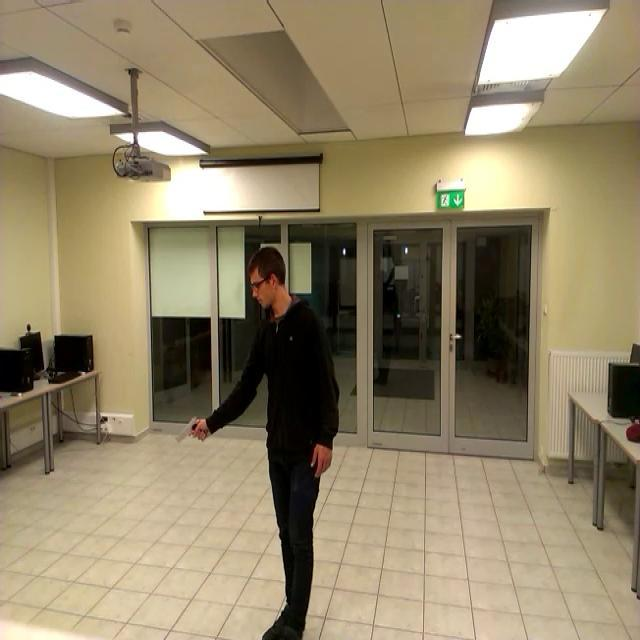Gun: (161, 408, 219, 448)
